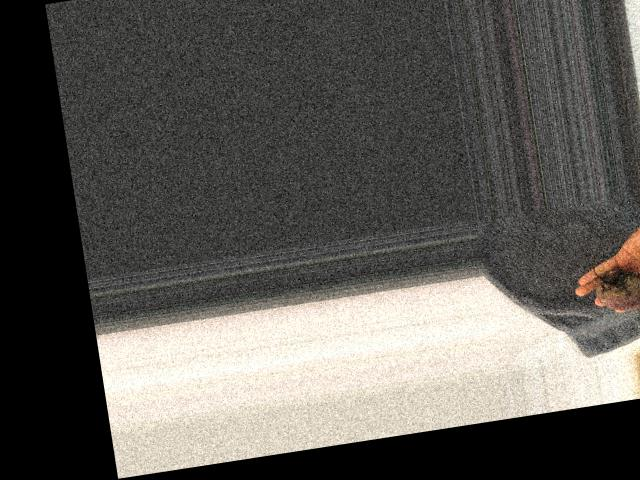beet: (593, 263, 640, 341)
